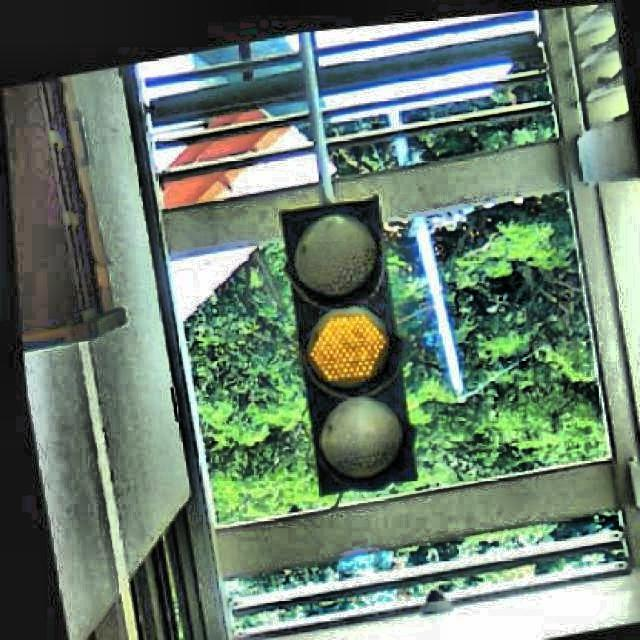yellow: (270, 187, 424, 493)
